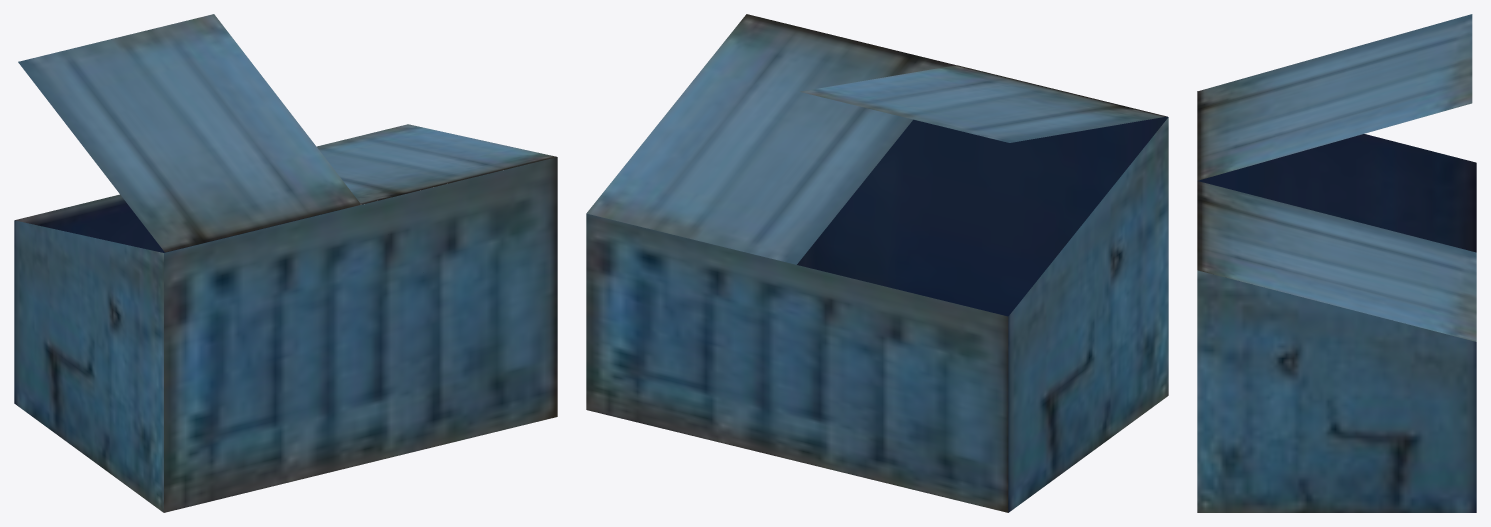
Rendered from dumpster_hdtex.glb.
The picture shows the model from 3 angles, left to right: view 1: azimuth 30°, elevation 25°; view 2: azimuth 150°, elevation 25°; view 3: azimuth 270°, elevation 25°; orthographic projection. The views are drawn at different scales.
Visible parts, largest first — view 1: dumpster; view 2: dumpster; view 3: dumpster.
Part boxes in pixels (x1,y1,x2,y2): dumpster: [14, 14, 557, 512]; dumpster: [586, 14, 1168, 512]; dumpster: [1197, 14, 1476, 512].
Size of the model in its own units: 2.43 by 2.02 by 1.6.
Materials: 1 (1 with a texture image).
